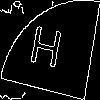H: (25, 25, 64, 78)
